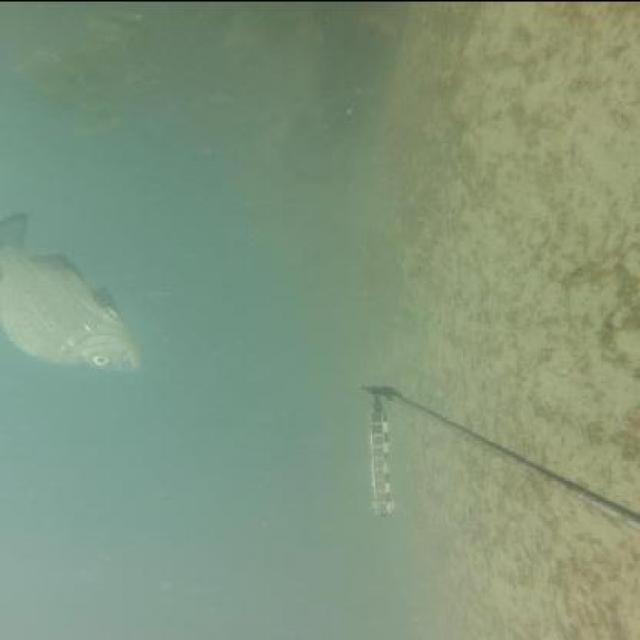acanthopagrus_palmaris: (0, 209, 155, 375)
